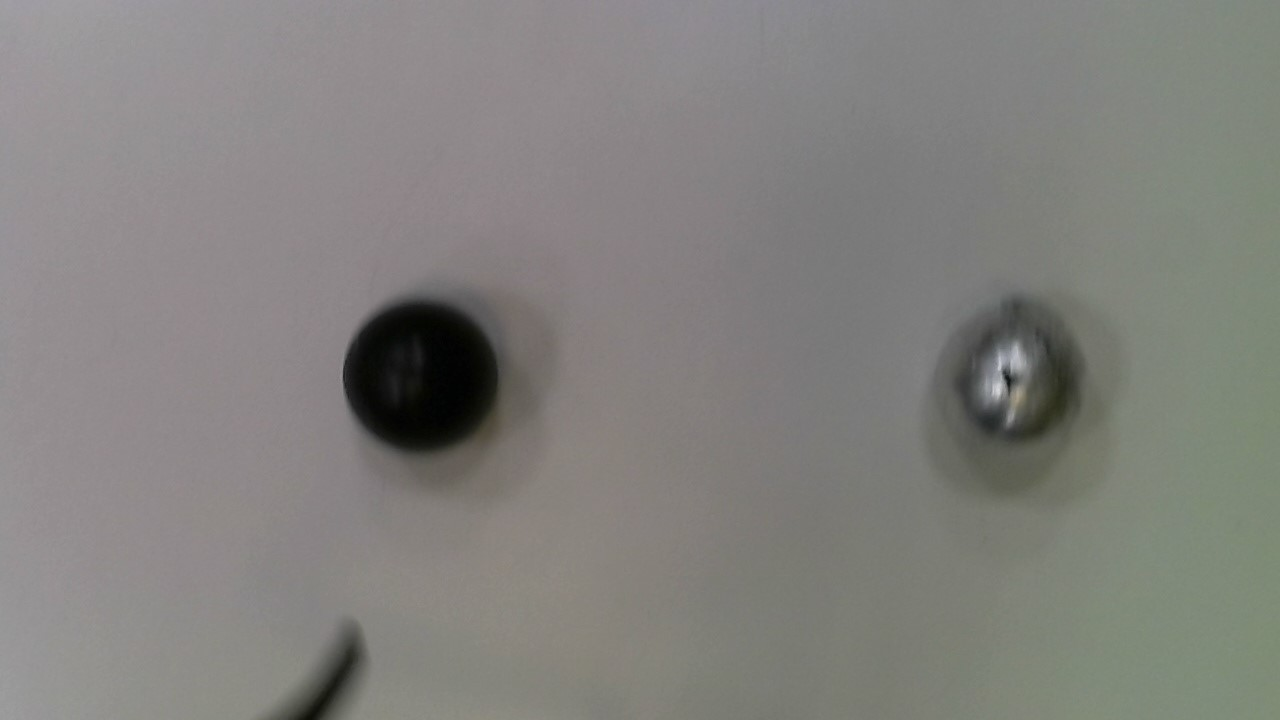black_ball: (342, 287, 509, 457)
silver_ball: (931, 295, 1092, 449)
